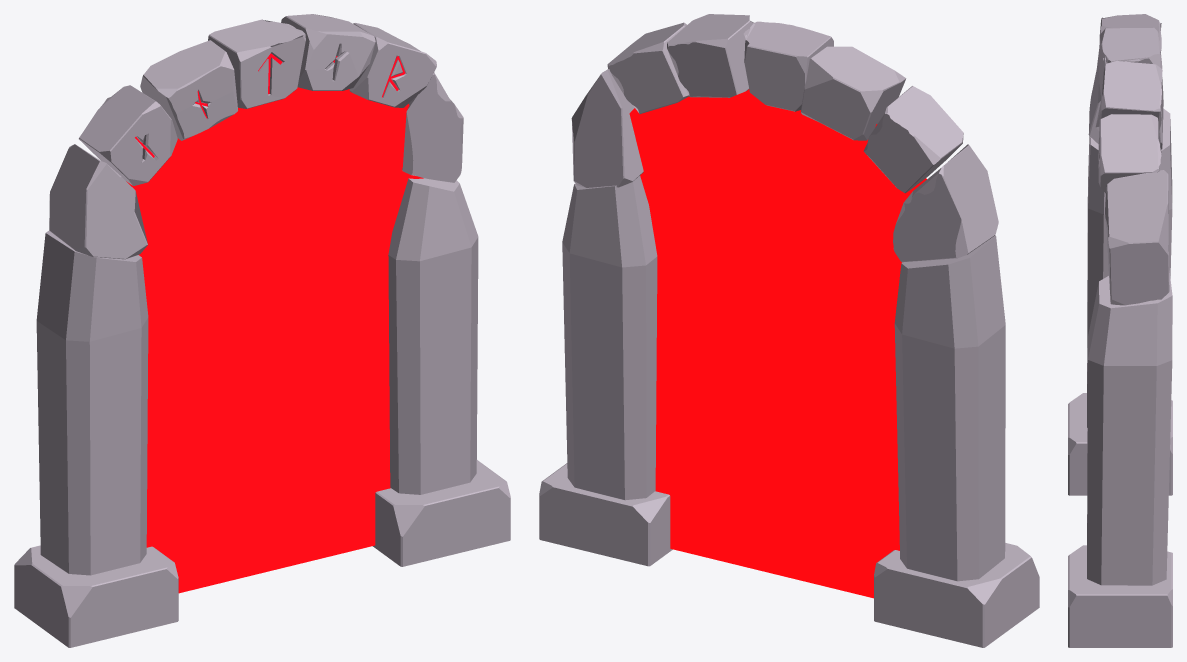
Rendered from Portal.fbx.
3 renders of one model, left to right at view 1: azimuth 30°, elevation 25°; view 2: azimuth 150°, elevation 25°; view 3: azimuth 270°, elevation 25°, orthographic. The views are drawn at different scales.
Visible parts, largest first — view 1: Cube.009; view 2: Cube.009; view 3: Cube.009.
Boxes of the visible parts, box(x1,y1,x2,y2) form: Cube.009: box(14, 14, 510, 647); Cube.009: box(539, 14, 1039, 647); Cube.009: box(1068, 14, 1172, 647).
Bounding box in the file's own units: 1645 × 1909 × 359.
